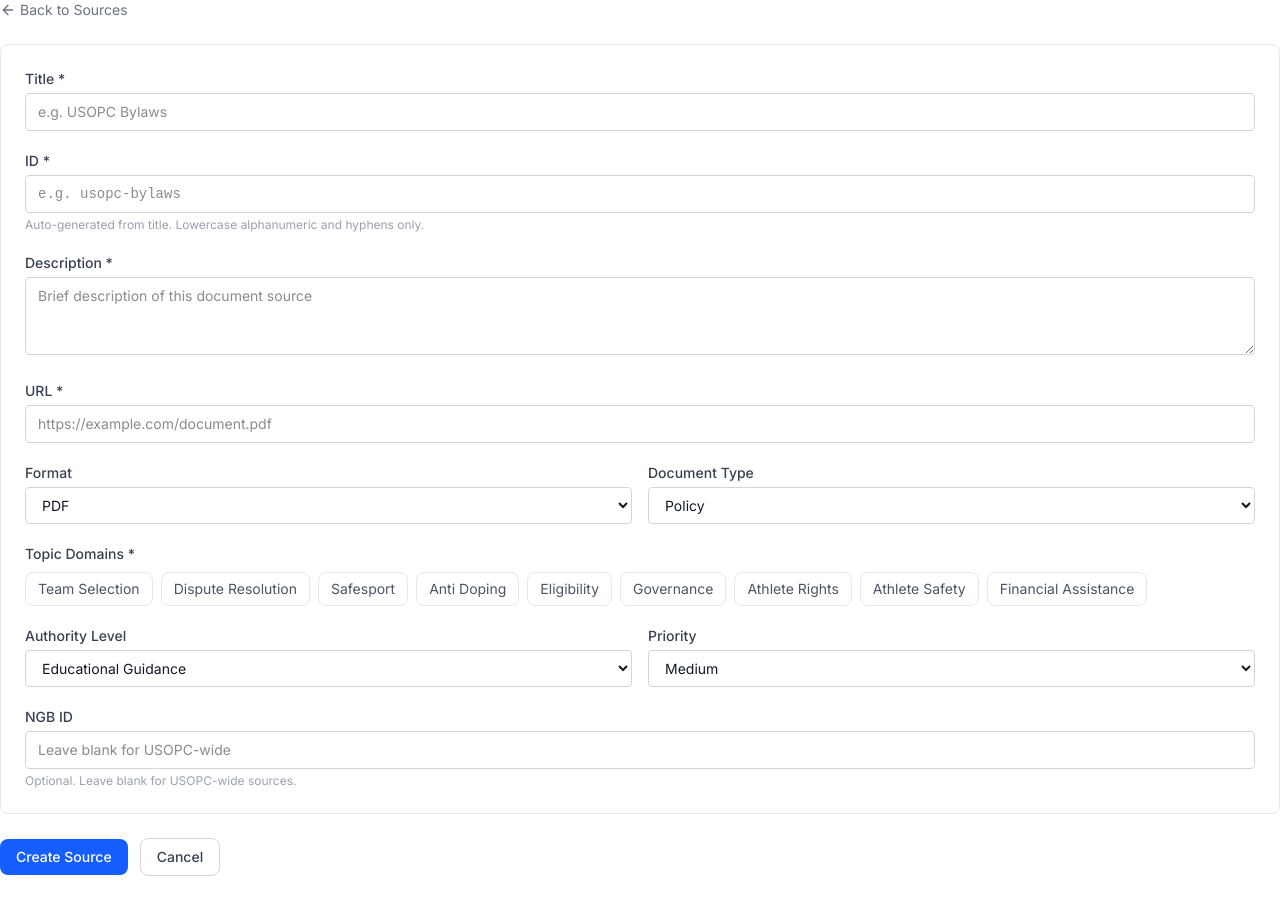
CreateSourceForm › shows error message on 409 conflict
Type "Test" into the field labelled "Title *".
click(640, 112); type("Test")  # box [25,93,1255,131]
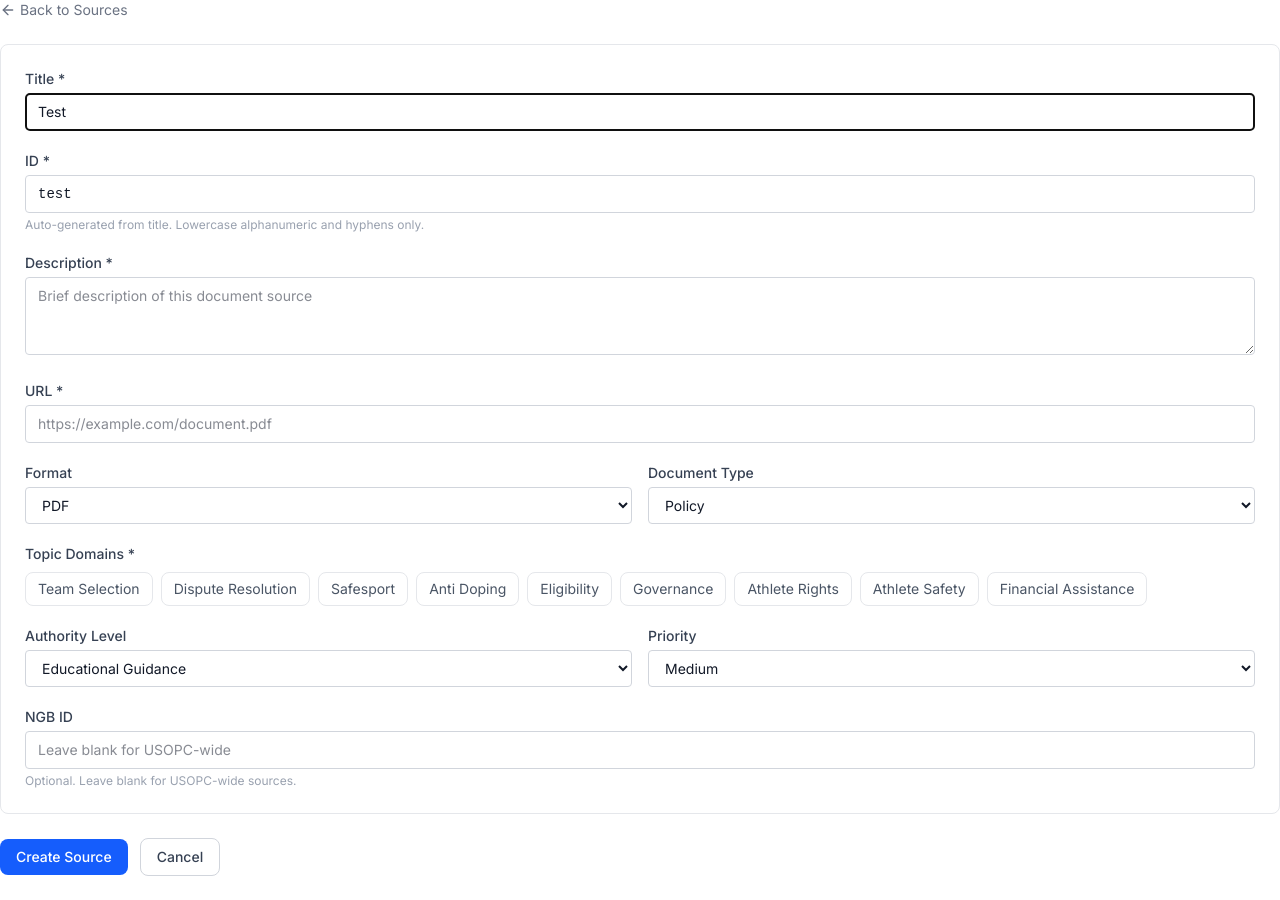
Type "Desc" into the text box labelled "Description *".
click(640, 316); type("Desc")  # box [25,277,1255,355]
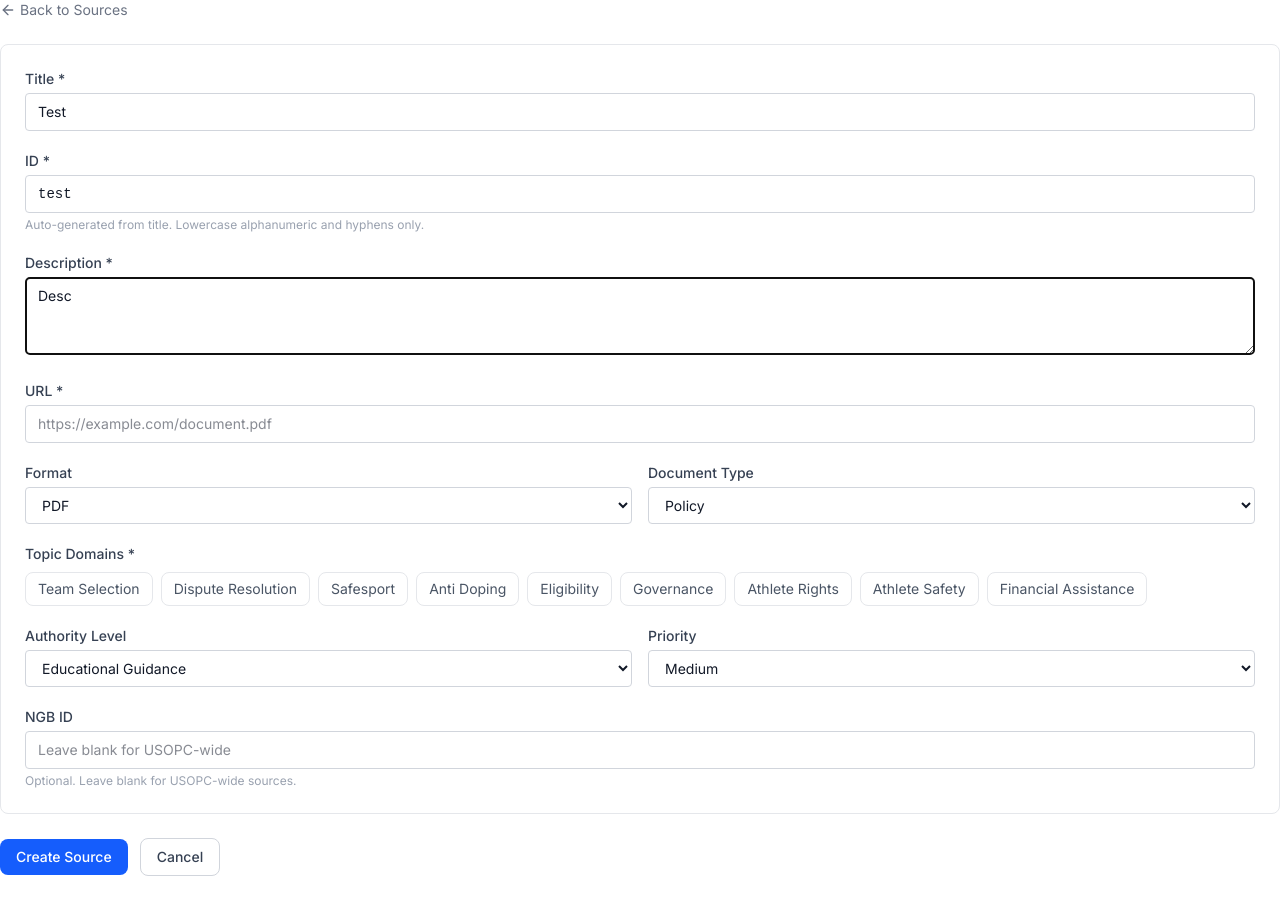
Type "https://example.com/doc.pdf" into the field labelled "URL *".
click(640, 424); type("https://example.com/doc.pdf")  # box [25,405,1255,443]
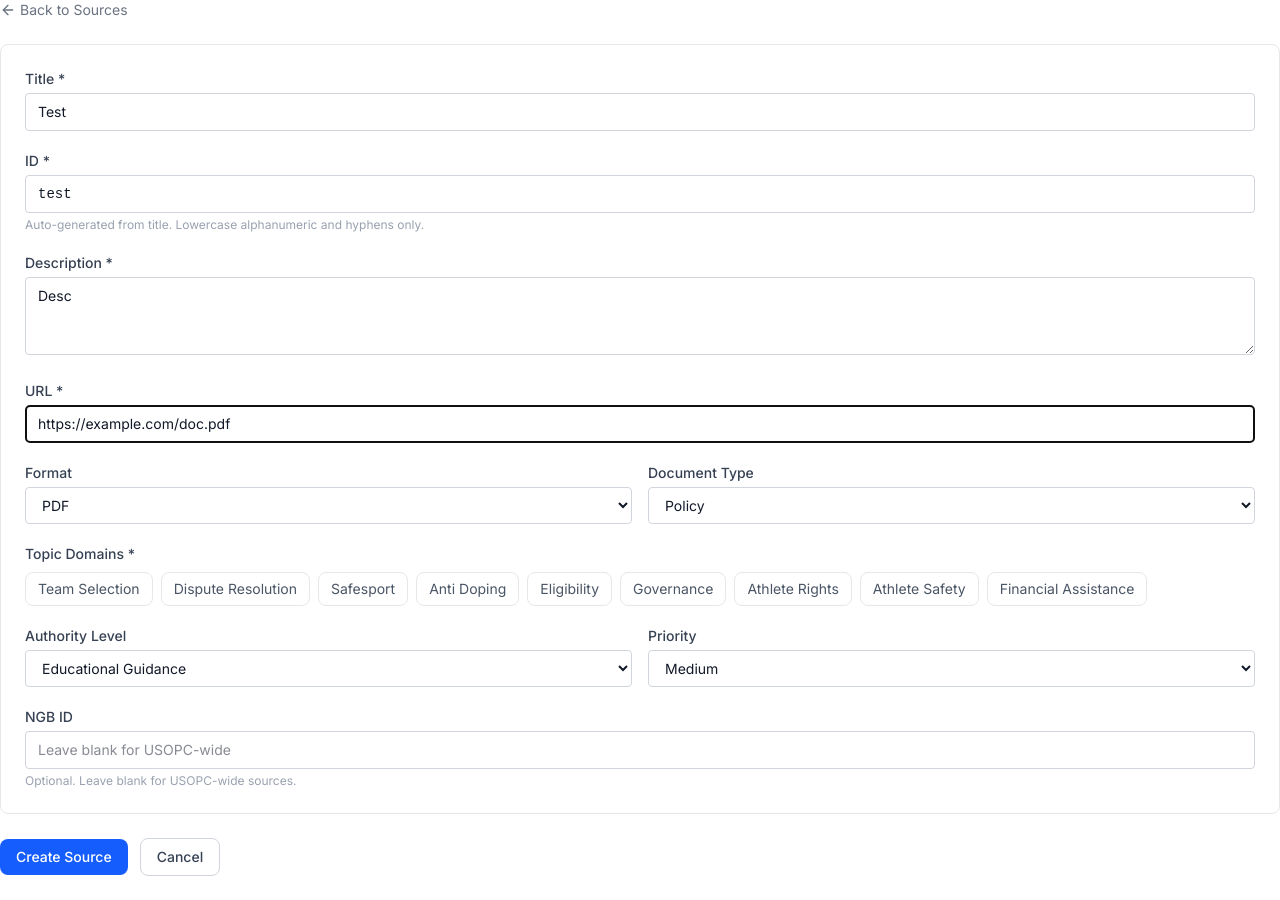
Click the checkbox "Governance".
click(673, 589)  # box [620,572,726,606]
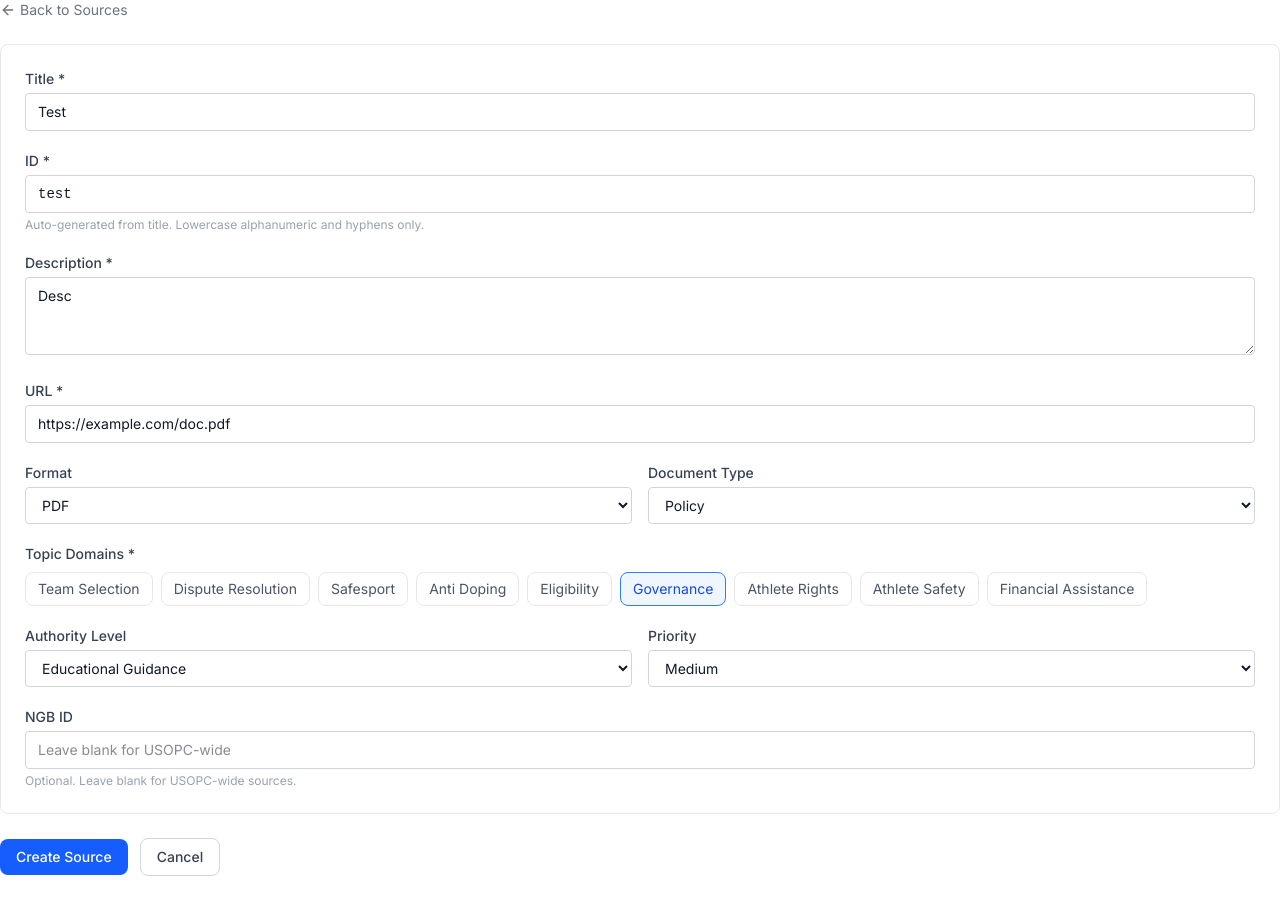
Click the button "Create Source".
click(64, 857)  # box [0,839,128,875]
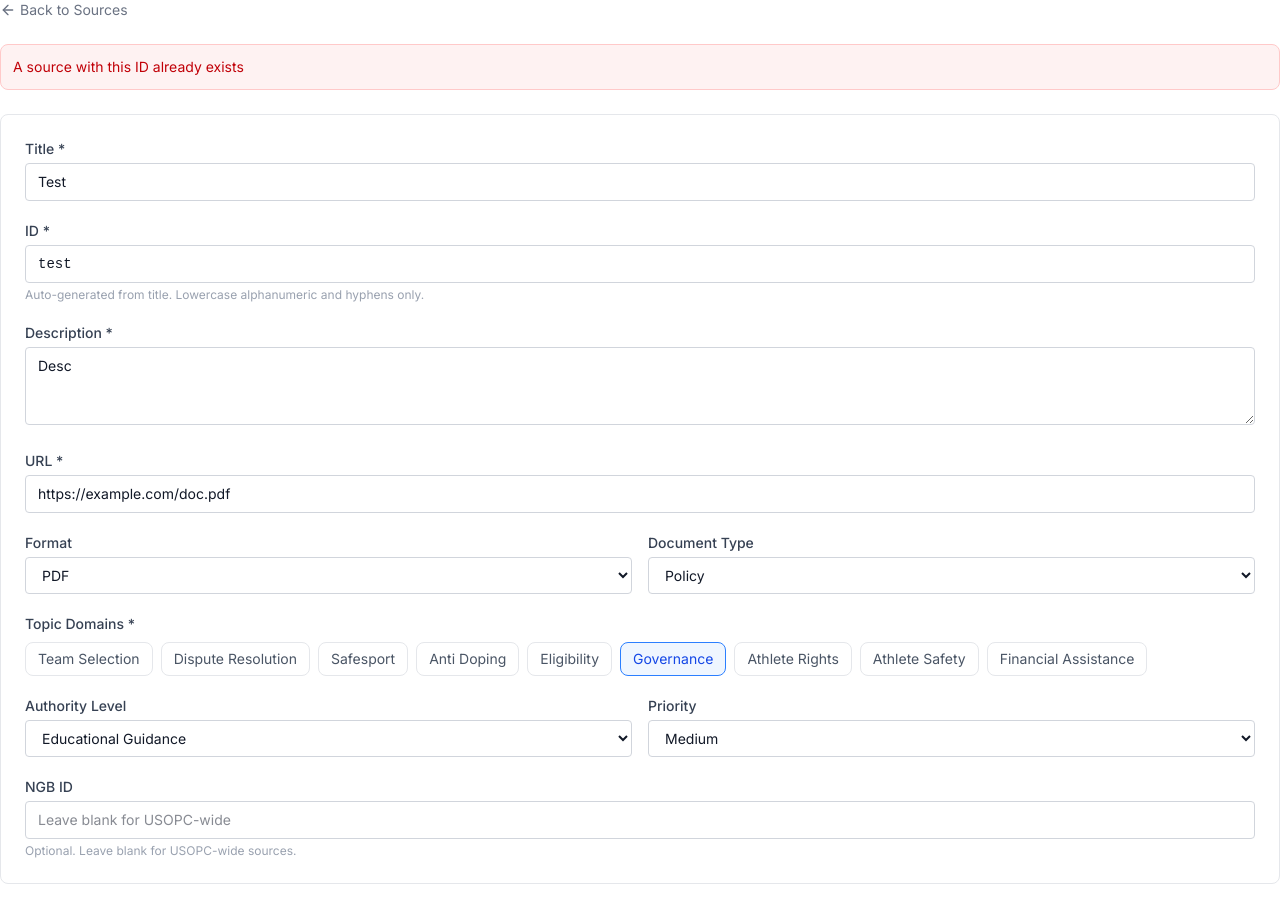
Now the text "A source with this ID already exists" is shown, box [0,44,1279,90]
